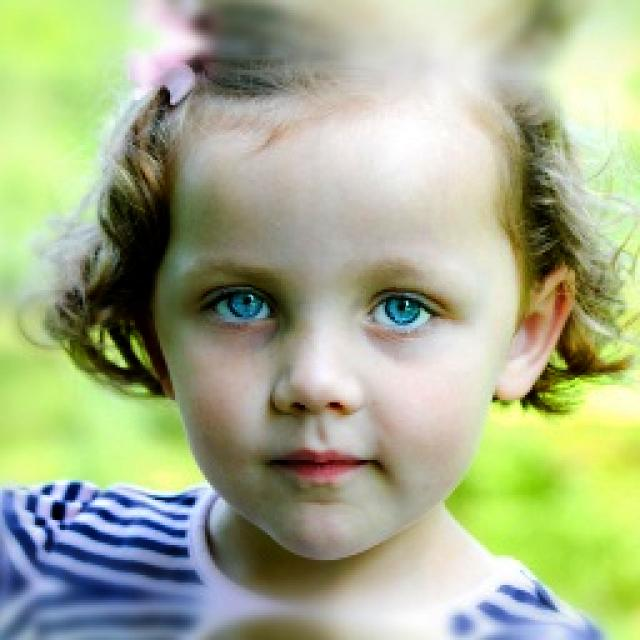no-glasses: (170, 267, 477, 369)
